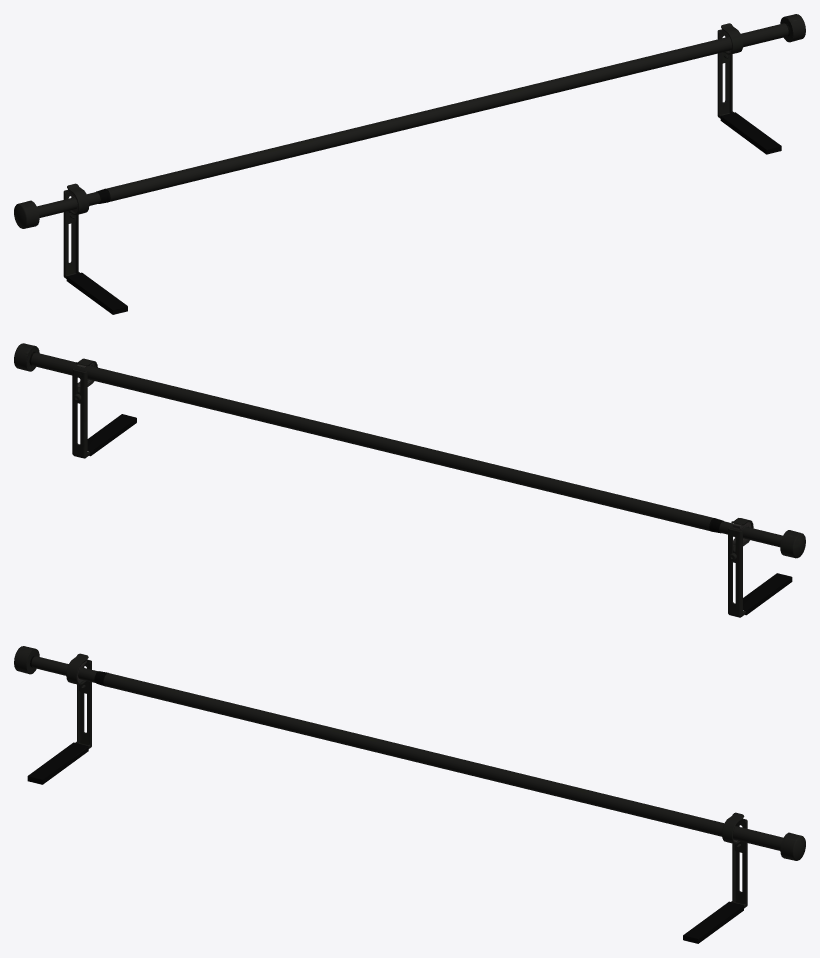
File: LB-ROD-01.glb
3 renders of one model, top to bottom at view 1: azimuth 30°, elevation 25°; view 2: azimuth 150°, elevation 25°; view 3: azimuth 330°, elevation 25°, orthographic.
Parts seen in each view (by area): view 1: Mesh_0; view 2: Mesh_0; view 3: Mesh_0.
Boxes of the visible parts, x1=… form: Mesh_0: x1=14, y1=14, x2=805, y2=314; Mesh_0: x1=14, y1=343, x2=805, y2=617; Mesh_0: x1=14, y1=646, x2=805, y2=943.
Size of the model in its own units: 1.25 by 0.1417 by 0.1484.
Materials: 1 (1 with a texture image).
